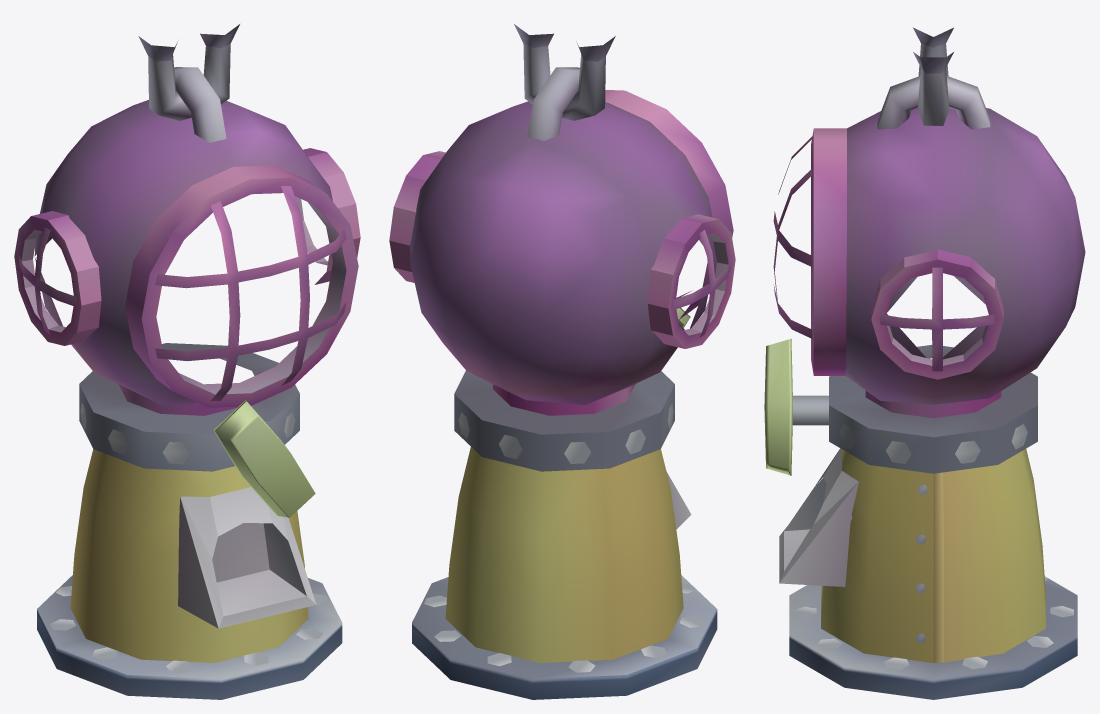
File: DivingMarket.glb
The picture shows the model from 3 angles, left to right: view 1: azimuth 30°, elevation 25°; view 2: azimuth 150°, elevation 25°; view 3: azimuth 270°, elevation 25°; orthographic projection.
Parts seen in each view (by area): view 1: DivingMarket; view 2: DivingMarket; view 3: DivingMarket.
Boxes of the visible parts, left/top/right/bottom form: DivingMarket: left=14, top=24, right=360, bottom=699; DivingMarket: left=389, top=24, right=735, bottom=699; DivingMarket: left=764, top=27, right=1085, bottom=699.
Size of the model in its own units: 1.01 by 1.96 by 0.9476.
